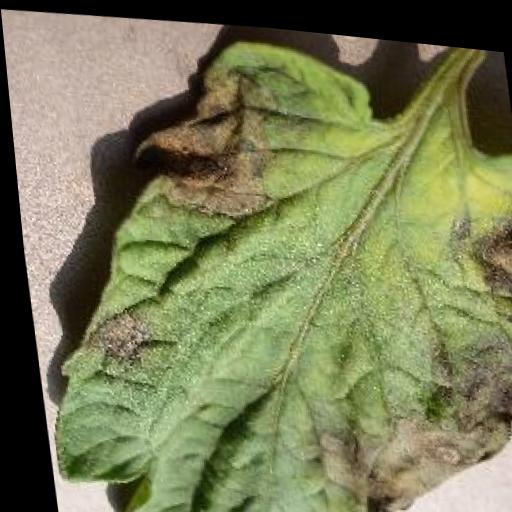Late Blight: (1, 7, 512, 512)
